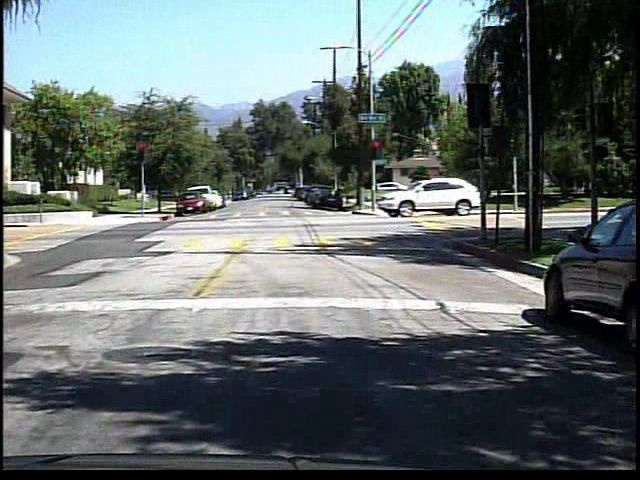person: (432, 173, 452, 214)
